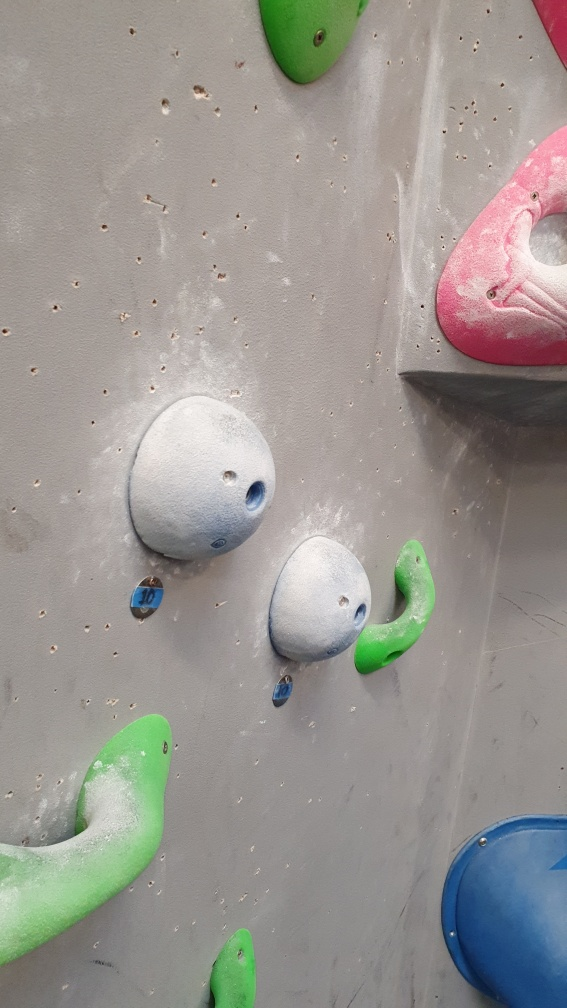Hand Start: (129, 570, 167, 621), (266, 672, 292, 714)
Pocket: (433, 123, 567, 373)
Sloper: (124, 385, 279, 567), (270, 535, 375, 663)
